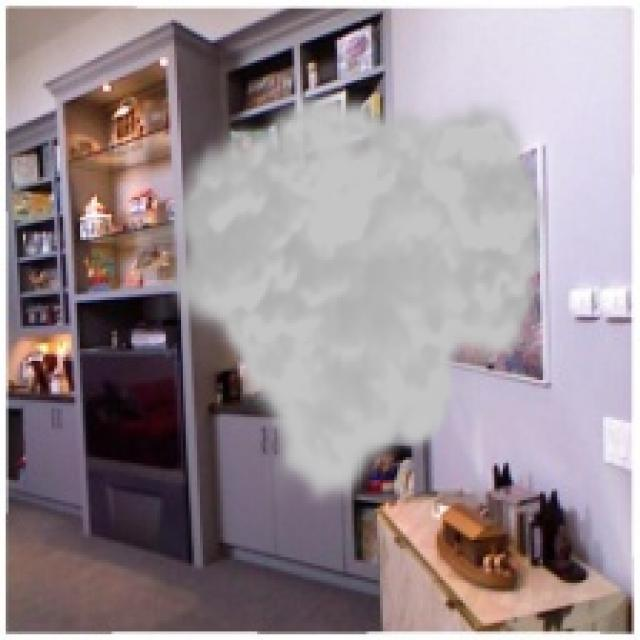smoke: (157, 86, 554, 511)
